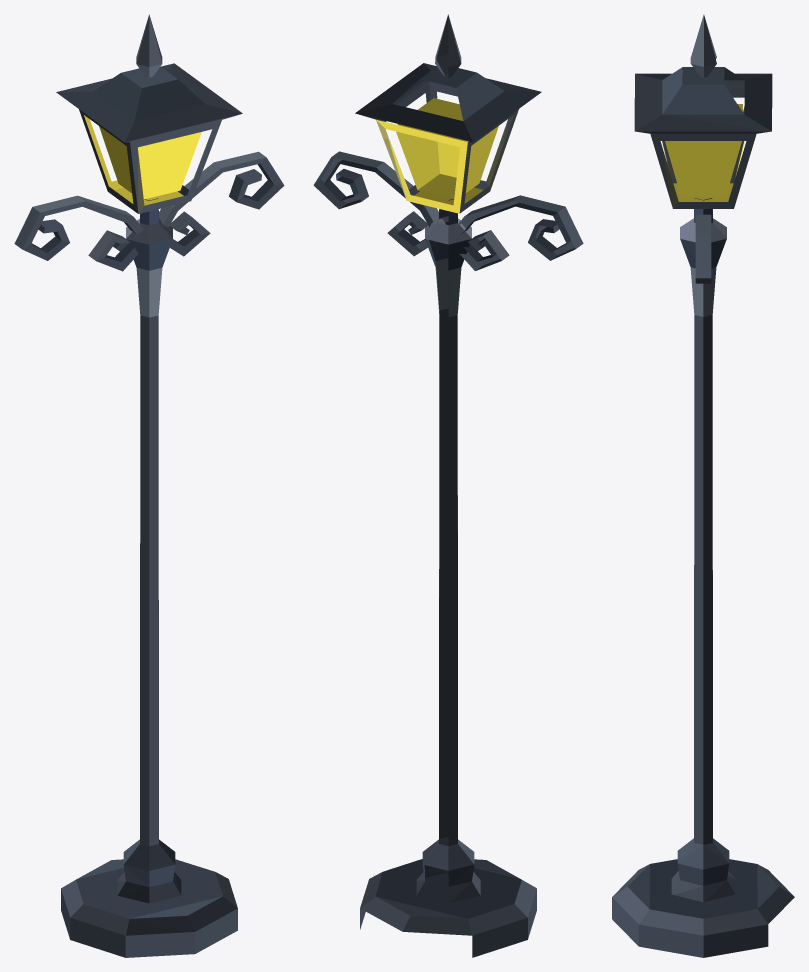
The model's file is city-decor02.fbx.
3 views of the same model, side by side, from view 1: azimuth 30°, elevation 25°; view 2: azimuth 150°, elevation 25°; view 3: azimuth 270°, elevation 25° (orthographic).
Parts seen in each view (by area): view 1: city-decor02; view 2: city-decor02; view 3: city-decor02.
Part boxes in pixels (bbox=[...]): city-decor02: bbox=[14, 14, 284, 957]; city-decor02: bbox=[313, 14, 583, 957]; city-decor02: bbox=[612, 14, 794, 957].
Size of the model in its own units: 0.7237 by 2.39 by 0.4378.
Materials: 1 (1 with a texture image).
